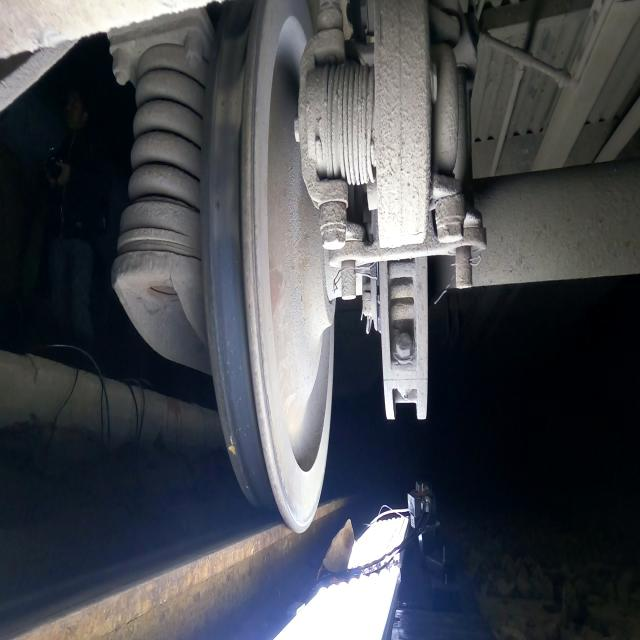Cracks-Scratches: (228, 434, 237, 456)
Shelling: (207, 23, 251, 241)
Wheel: (201, 0, 335, 534)
